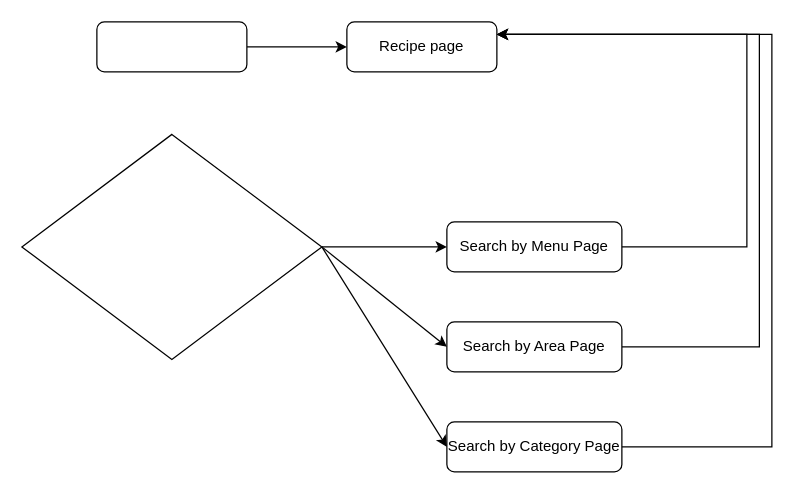
This 804x494 diagram has some shape labels left out. Each missing label, with the box of its shape:
Click random menu: (96, 21, 247, 72)
Search menu by : Menu, Chategory, Area: (21, 133, 322, 359)
